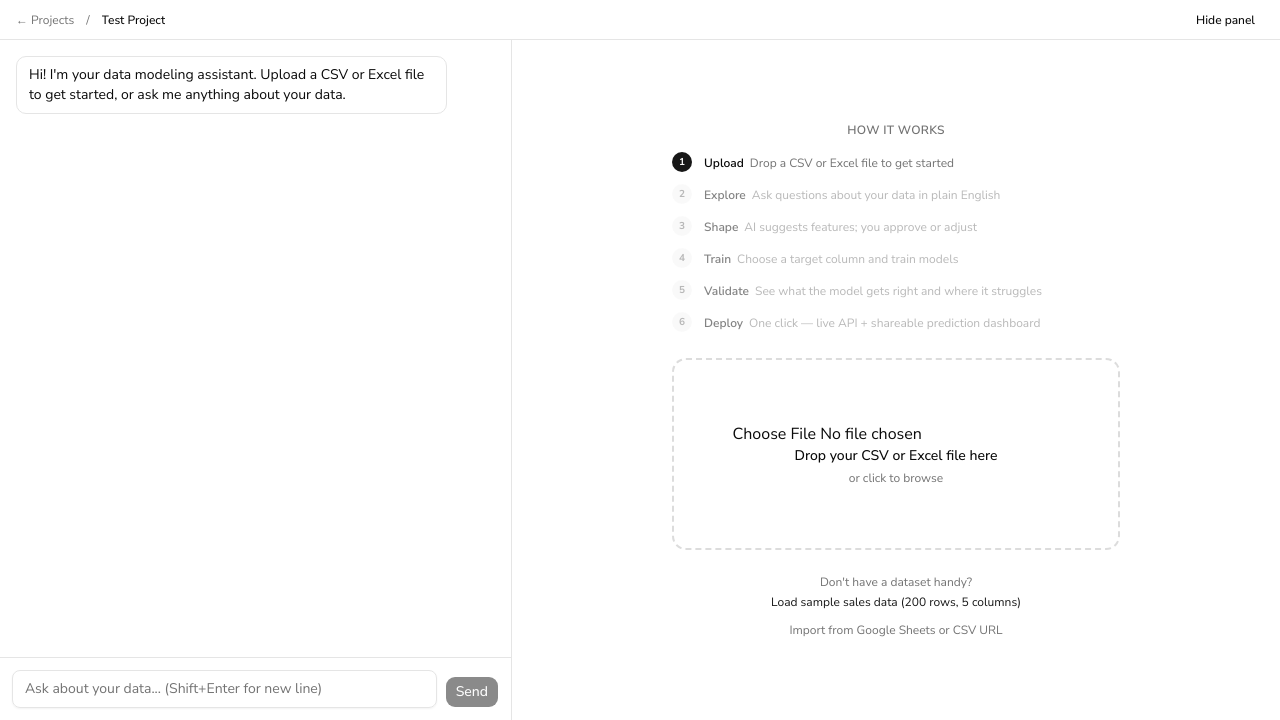
Test: Proactive upload suggestions › clicking a chip pre-fills the chat input
Step 1. Click the button "Load sample sales data (200 rows, 5 columns)" → (896, 602), box [771, 594, 1021, 610]
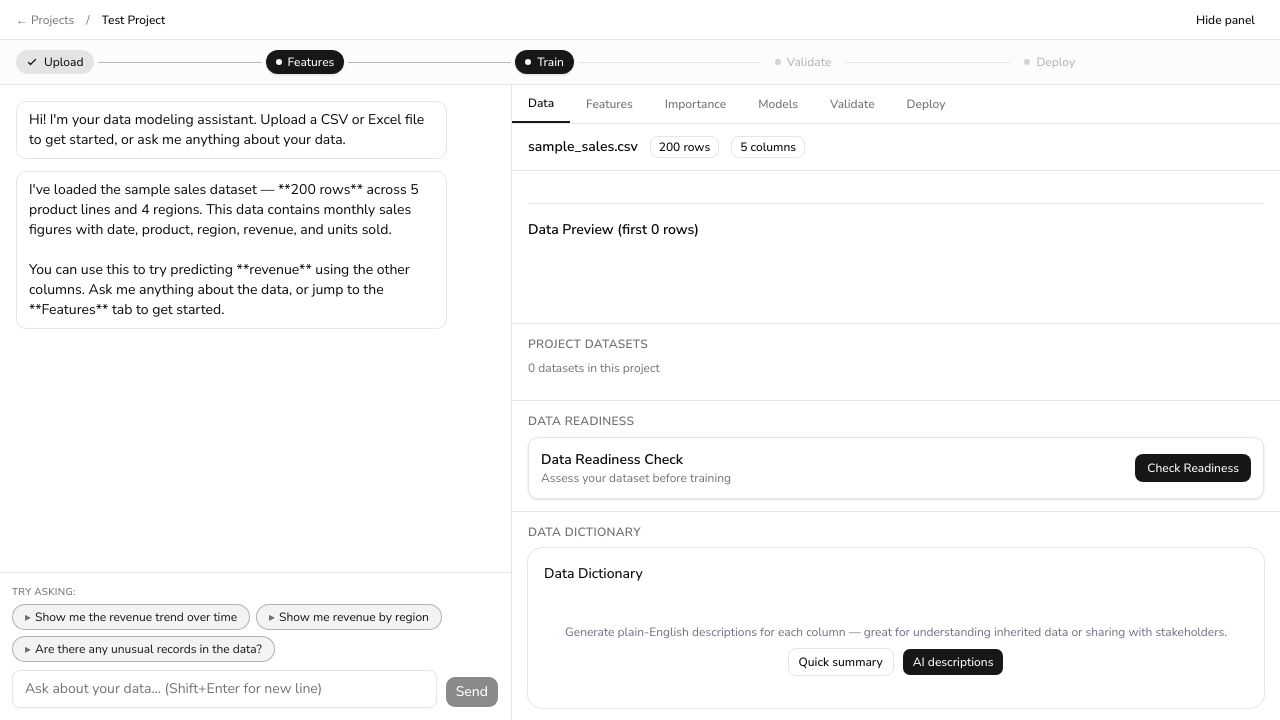
Check: the element with test id "suggestion-chips" is shown, box [12, 585, 499, 662]
Step 2. Click the button with test id "suggestion-chip" → (131, 617), box [12, 604, 250, 630]
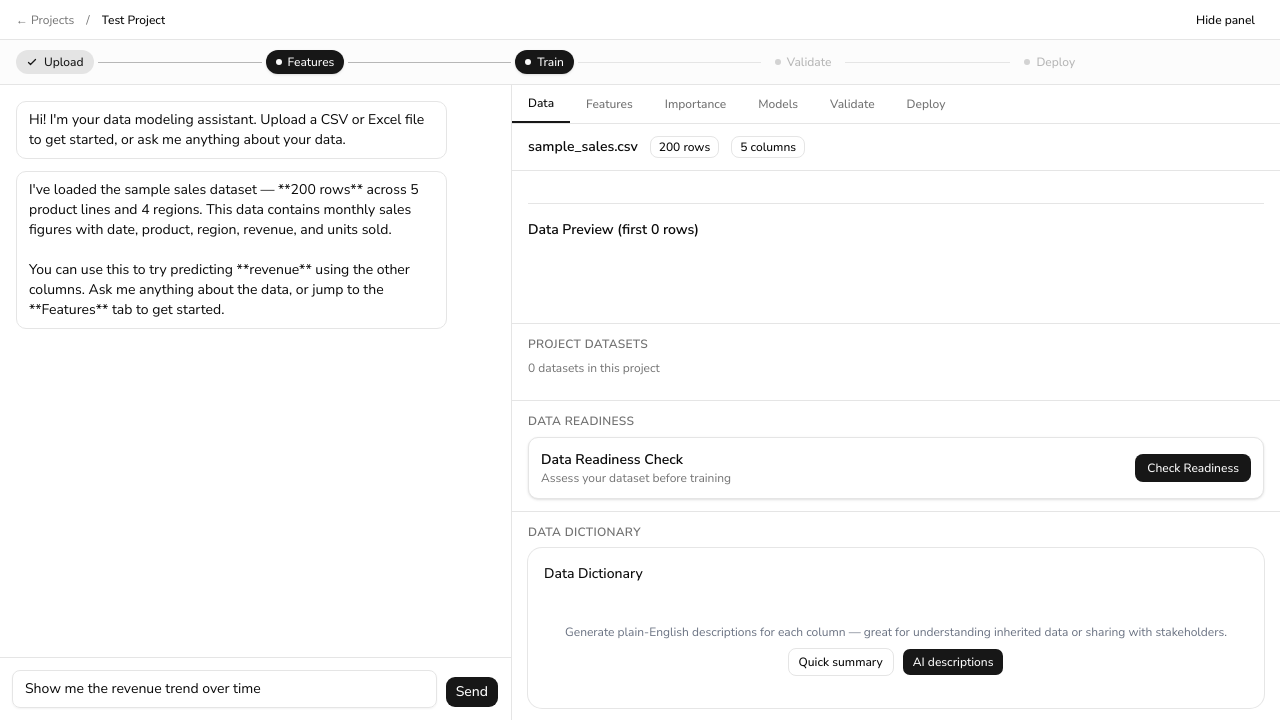
Check: the text box with placeholder "Ask about your data... (Shift+Enter for new line)" holds "Show me the revenue trend over time", box [12, 670, 437, 708]
